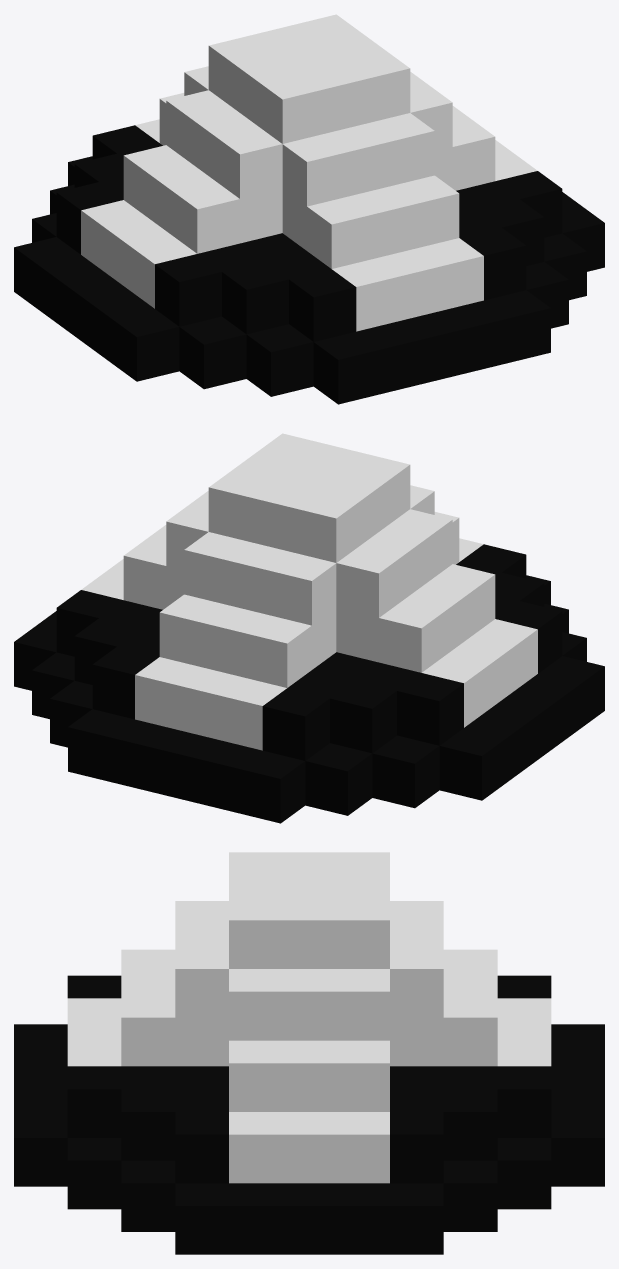
File: Lever.vox-1.obj
The picture shows the model from 3 angles, top to bottom: view 1: azimuth 30°, elevation 25°; view 2: azimuth 150°, elevation 25°; view 3: azimuth 270°, elevation 25°; orthographic projection. The views are drawn at different scales.
Bounding box in the file's own units: 1.1 × 0.5 × 1.1.
Materials: 1 (1 with a texture image).
